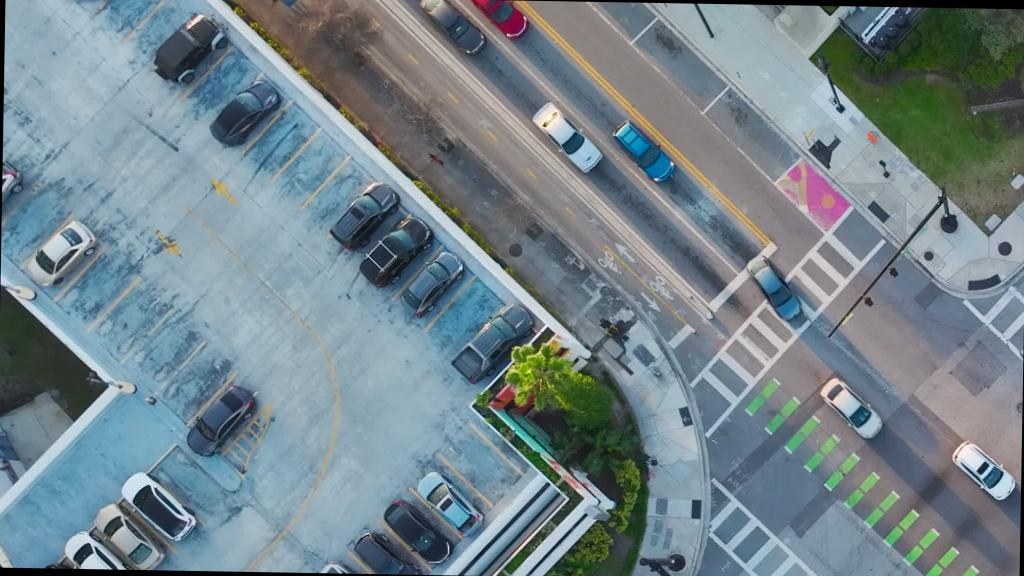cars: (449, 300, 535, 385), (357, 214, 434, 290), (151, 13, 227, 86), (119, 471, 197, 541), (531, 101, 604, 173), (186, 384, 256, 458), (328, 180, 400, 250), (208, 79, 280, 148), (26, 220, 98, 288), (93, 503, 166, 570), (398, 250, 466, 319), (382, 501, 453, 566), (415, 471, 483, 537), (818, 376, 884, 440), (611, 119, 676, 182), (951, 440, 1017, 502), (744, 253, 802, 322), (418, 0, 486, 55), (353, 532, 423, 574), (63, 532, 138, 570), (469, 0, 530, 40), (2, 160, 24, 211), (317, 561, 391, 574), (36, 565, 111, 569)
